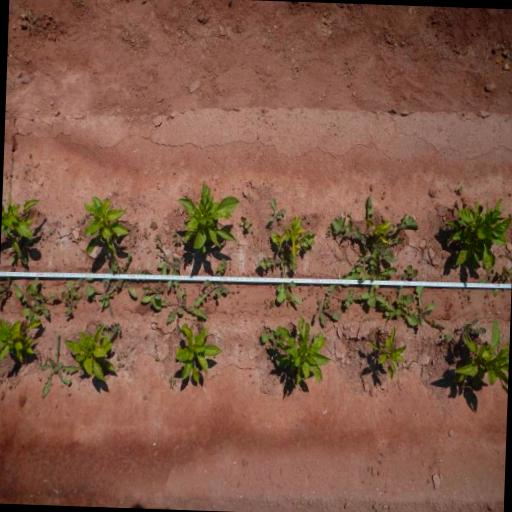plant: (175, 180, 240, 256), (445, 196, 512, 268), (452, 315, 509, 395), (277, 314, 332, 387), (173, 321, 224, 386), (81, 195, 128, 260), (62, 327, 117, 382), (364, 323, 406, 380), (0, 192, 39, 251), (0, 317, 42, 365), (276, 213, 306, 258), (365, 218, 391, 243)
weed: (330, 192, 420, 288), (256, 229, 298, 305), (150, 278, 207, 326), (39, 333, 76, 398), (360, 246, 398, 308), (11, 274, 59, 322), (109, 250, 152, 301), (193, 256, 230, 308), (405, 283, 445, 330), (84, 267, 117, 317), (375, 294, 418, 326), (154, 244, 181, 291), (314, 284, 342, 328), (260, 324, 280, 367), (458, 318, 487, 346), (493, 264, 512, 297), (60, 286, 78, 319), (140, 278, 163, 302), (344, 288, 368, 310), (298, 228, 317, 255), (268, 196, 287, 222), (97, 321, 122, 339), (64, 276, 95, 290), (284, 280, 301, 304), (8, 250, 30, 266), (400, 264, 418, 282), (0, 275, 12, 301), (479, 266, 494, 284), (239, 215, 254, 228), (441, 331, 452, 344), (75, 290, 88, 300), (172, 232, 182, 244), (168, 374, 176, 388), (152, 234, 162, 245), (148, 219, 158, 230), (54, 219, 65, 228), (286, 295, 294, 307), (313, 331, 323, 338), (142, 227, 148, 238), (456, 184, 464, 192), (262, 299, 268, 309), (36, 356, 42, 366), (325, 227, 332, 235), (48, 227, 56, 234), (268, 299, 274, 308), (116, 362, 124, 368), (438, 222, 444, 229), (154, 354, 160, 361), (76, 218, 80, 228), (507, 56, 512, 64), (484, 292, 490, 298), (146, 302, 150, 310), (346, 211, 352, 216), (122, 352, 128, 357), (132, 233, 135, 243), (85, 212, 90, 218), (298, 285, 302, 292), (302, 294, 306, 300), (80, 216, 84, 222), (466, 294, 470, 299), (246, 227, 250, 232), (230, 290, 235, 294), (129, 346, 134, 350), (68, 391, 72, 396), (38, 376, 42, 381), (8, 384, 12, 389), (269, 223, 272, 229), (126, 226, 130, 230), (461, 304, 464, 309), (406, 365, 411, 368), (251, 228, 254, 233), (366, 318, 372, 320), (307, 220, 310, 224), (239, 343, 243, 346), (199, 324, 202, 328), (237, 289, 240, 292), (116, 357, 119, 360), (244, 232, 246, 236), (350, 354, 352, 357), (223, 310, 226, 312), (136, 228, 139, 230)
